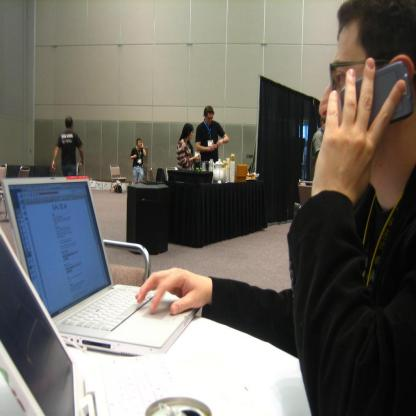board: (0, 174, 201, 361)
